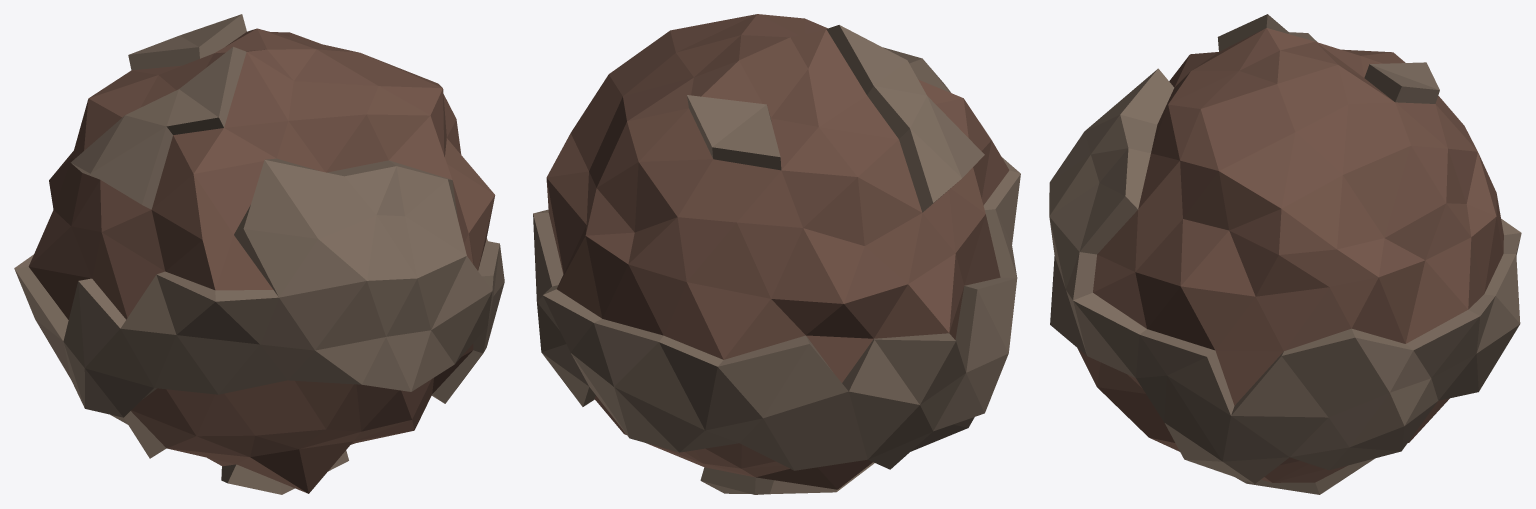
The model's file is Venus_3.fbx.
3 renders of one model, left to right at view 1: azimuth 30°, elevation 25°; view 2: azimuth 150°, elevation 25°; view 3: azimuth 270°, elevation 25°, orthographic. The views are drawn at different scales.
Visible parts, largest first — view 1: Icosphere.019; view 2: Icosphere.019; view 3: Icosphere.019.
Boxes of the visible parts, <box> form: Icosphere.019: <box>14,14,504,494</box>; Icosphere.019: <box>533,14,1020,494</box>; Icosphere.019: <box>1049,14,1521,494</box>.
Size of the model in its own units: 212 by 216 by 210.
